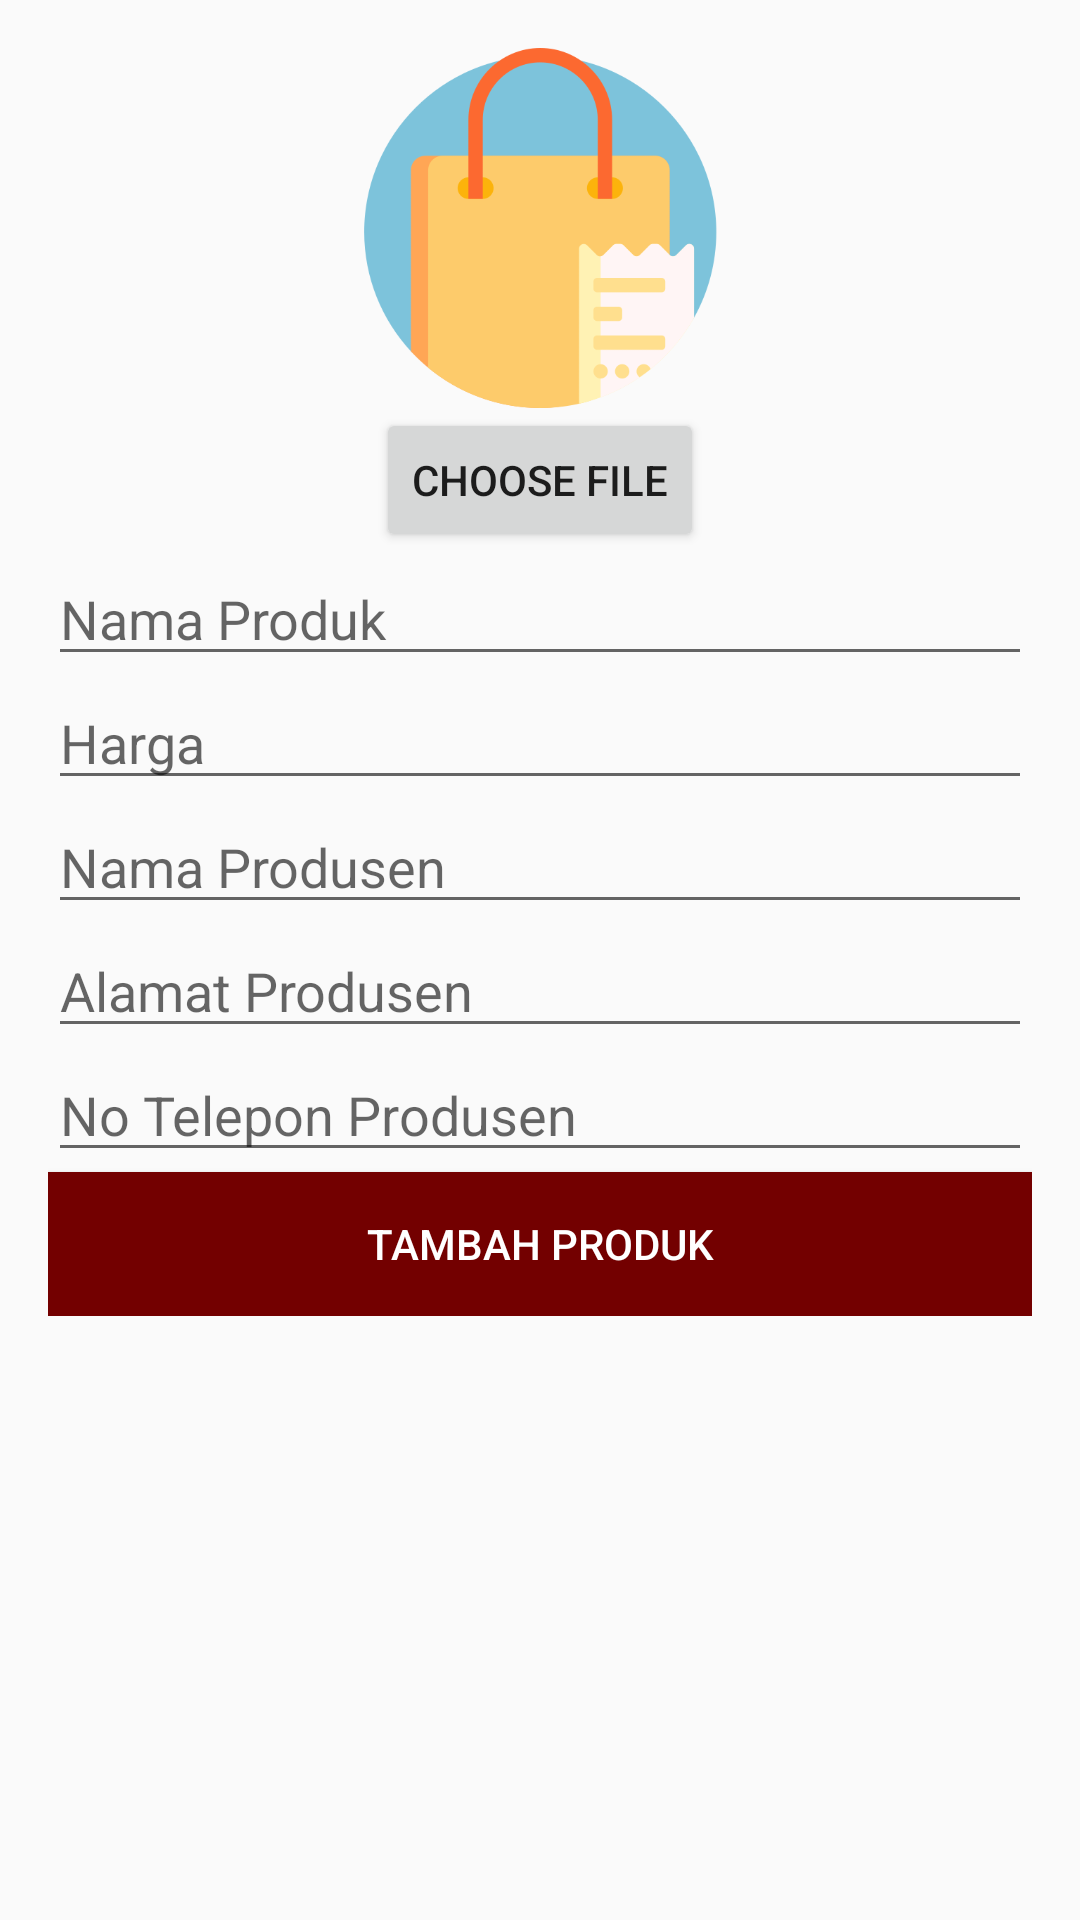

Icons on this 1080x1920 Android screen, each with the point to tap as (x=x, y=y):
bag: (x=540, y=228)
